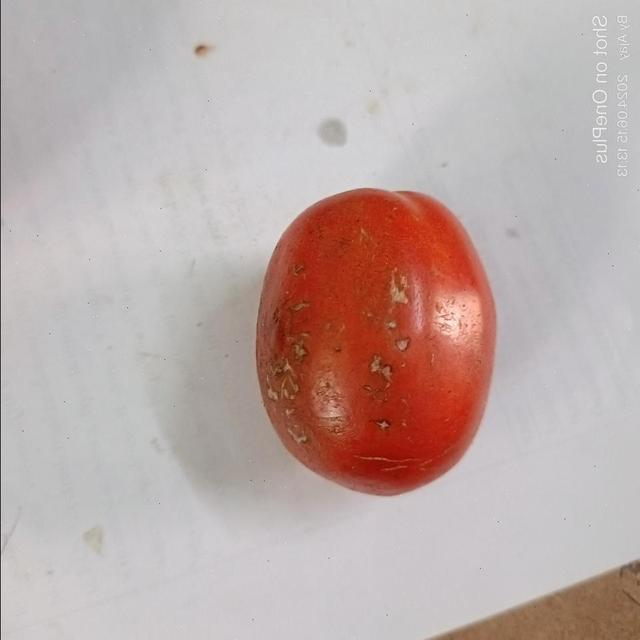Bacterial Spot Fruit: (29, 104, 262, 247)
